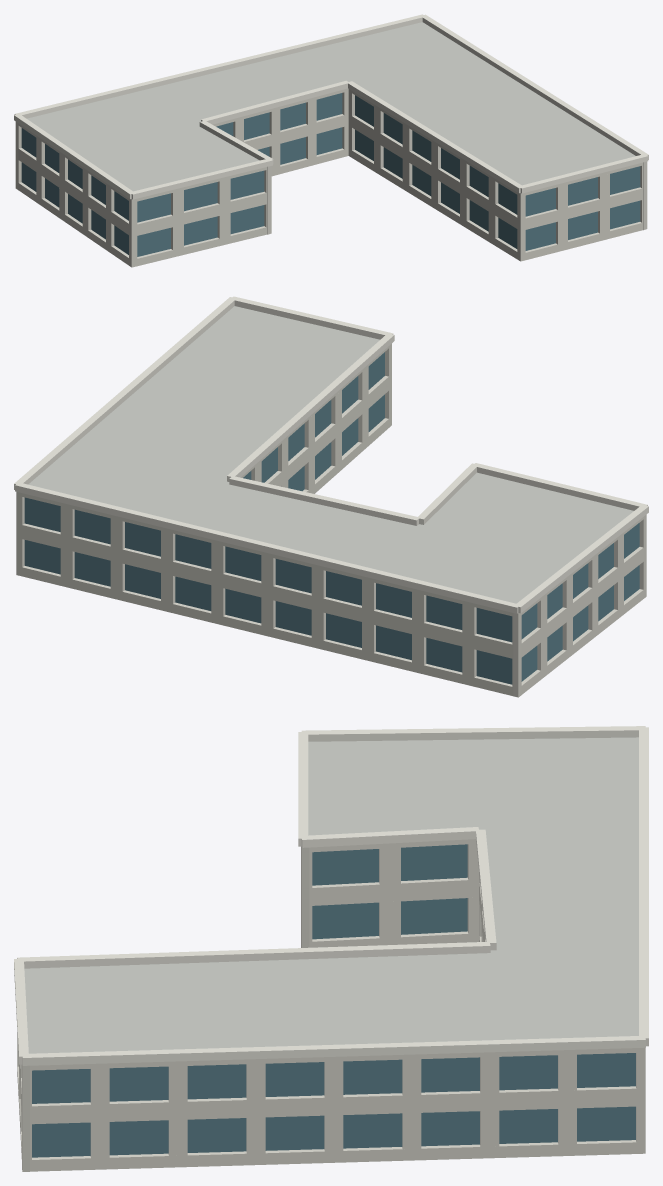
The model's file is sb_1556523886.far.glb.
The picture shows the model from 3 angles, top to bottom: view 1: azimuth 30°, elevation 25°; view 2: azimuth 150°, elevation 25°; view 3: azimuth 270°, elevation 25°; orthographic projection. The views are drawn at different scales.
Visible parts, largest first — view 1: roof, wall, glass, trim; view 2: roof, wall, glass, trim; view 3: roof, wall, glass, trim.
Part boxes in pixels (x1=…): roof: x1=27, y1=22, x2=635, y2=191; wall: x1=15, y1=88, x2=647, y2=267; glass: x1=21, y1=93, x2=640, y2=256; trim: x1=14, y1=14, x2=648, y2=199; roof: x1=28, y1=306, x2=633, y2=603; wall: x1=16, y1=343, x2=646, y2=697; glass: x1=24, y1=352, x2=639, y2=684; trim: x1=14, y1=296, x2=648, y2=613; roof: x1=24, y1=737, x2=638, y2=1053; wall: x1=17, y1=839, x2=645, y2=1171; glass: x1=32, y1=844, x2=635, y2=1157; trim: x1=14, y1=726, x2=648, y2=1065.
Bounding box in the file's own units: 39.78 × 6.44 × 32.15.
